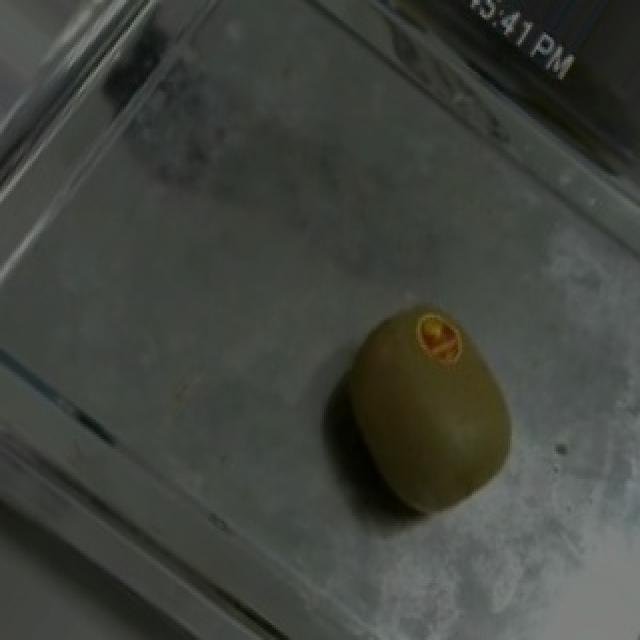Fruit: (292, 281, 544, 544)
